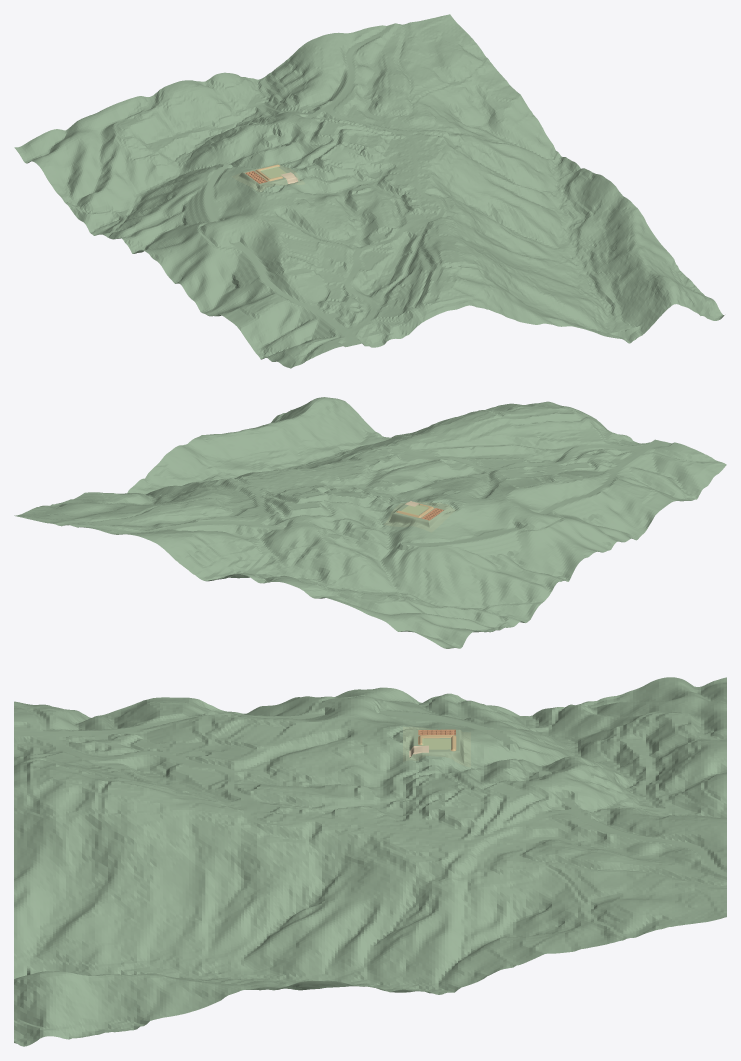
File: phase3i.glb
The picture shows the model from 3 angles, top to bottom: view 1: azimuth 30°, elevation 25°; view 2: azimuth 150°, elevation 25°; view 3: azimuth 270°, elevation 25°; orthographic projection. The views are drawn at different scales.
Visible parts, largest first — view 1: nm-context, nm-transition; view 2: nm-context, nm-transition; view 3: nm-context, nm-transition.
Part boxes in pixels (x1,y1,x2,y2): nm-context: [14, 14, 724, 368]; nm-transition: [231, 163, 305, 191]; nm-context: [14, 397, 726, 648]; nm-transition: [384, 501, 457, 532]; nm-context: [14, 677, 726, 1046]; nm-transition: [403, 726, 470, 767].
Bounding box in the file's own units: 1000 × 247 × 1100.
